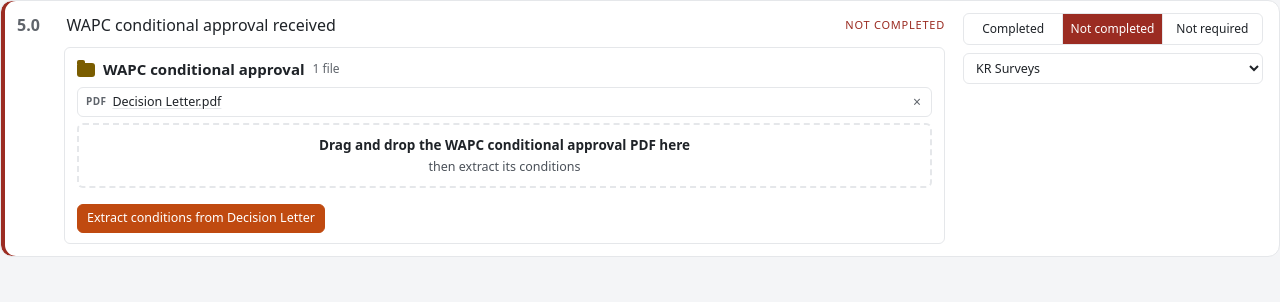
Test: conditions panel: the folder and the extraction › after a reload while a reading is queued or running (QA r2) › says what the server said when it refuses a second extraction as already being read
Click the button "Extract conditions from Decision Letter": (201, 219) x1=77 y1=204 x2=325 y2=233
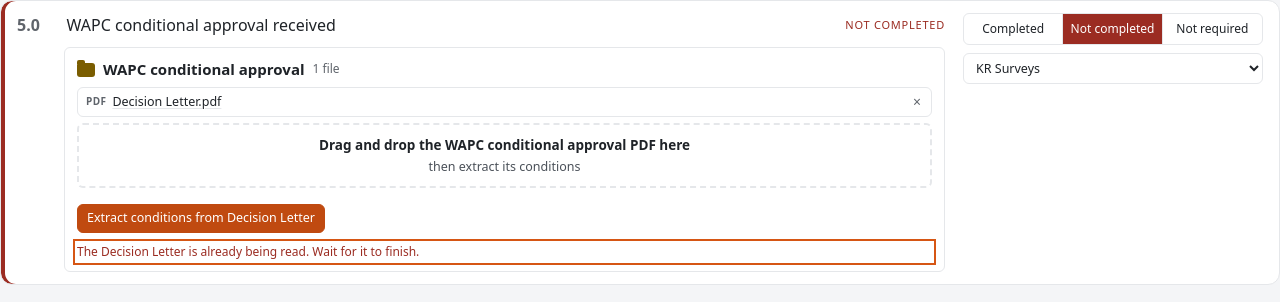
Check: the text "The Decision Letter is already being read. Wait for it to finish." is shown, box x1=77 y1=243 x2=419 y2=260
